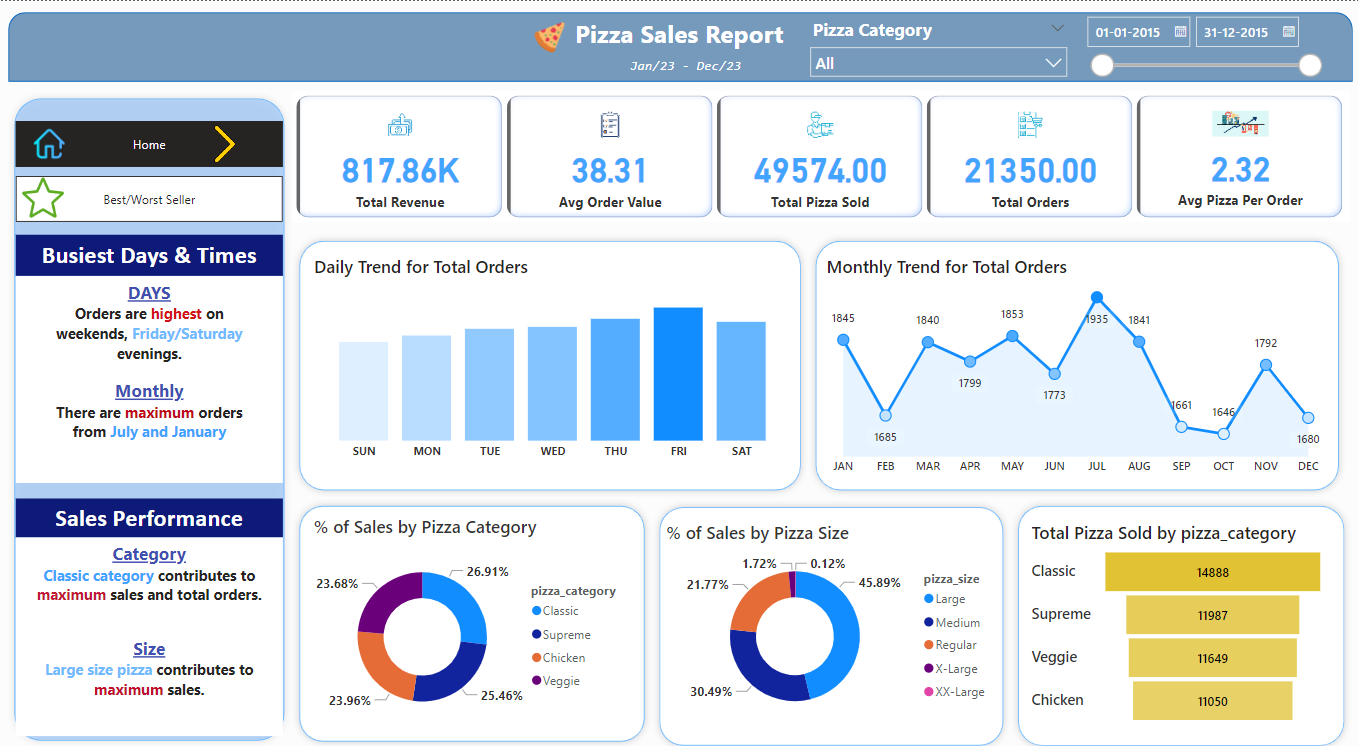

The dashboard page shown, as its layout file describes it:
{"tool":"powerbi","page":{"name":"Home","canvas":[1500,820],"ordinal":0},"visuals":[{"type":"shape","box":[16.4,98.5,310.4,716.4],"z":0},{"type":"cardVisual","fields":{"Data":["pizza_sales.Total Revenue","pizza_sales.Average Order Value","pizza_sales.Total Pizza Sold","pizza_sales.Total Orders","pizza_sales.Average Pizza Per Order"]},"box":[326.9,98.5,1153.7,143.3],"z":1000},{"type":"shape","box":[17.1,12.9,1465.7,75.7],"z":2000},{"type":"textbox","box":[620,12.9,258.6,48.6],"z":3000},{"type":"textbox","box":[680.8,55.8,149.8,32.7],"z":4000},{"type":"image","box":[577.1,17.1,60,44.3],"z":5000},{"type":"shape","box":[326.9,253.7,562.7,288.1],"z":6000},{"type":"columnChart","title":"Daily Trend for Total Orders","fields":{"Y":["pizza_sales.Total Orders"],"Category":["pizza_sales.Order Day"]},"box":[346.3,276.1,531.3,232.8],"z":7000},{"type":"shape","box":[889.6,253.7,586.6,288.1],"z":8000},{"type":"areaChart","title":"Monthly Trend for Total Orders","fields":{"Category":["pizza_sales.Order Month"],"Y":["pizza_sales.Total Orders"]},"box":[904.5,276.1,553.7,249.3],"z":9000},{"type":"shape","box":[326.9,541.8,392.5,273.1],"z":10000},{"type":"shape","box":[719.4,543.3,391,276.1],"z":11000},{"type":"shape","box":[1110.4,541.8,371.6,277.6],"z":12000},{"type":"donutChart","title":"% of Sales by Pizza Category","fields":{"Category":["pizza_sales.pizza_category"],"Y":["pizza_sales.Total Revenue"]},"box":[346.3,559.7,355.2,241.8],"z":13000},{"type":"donutChart","title":"% of Sales by Pizza Size","fields":{"Category":["pizza_sales.pizza_size"],"Y":["pizza_sales.Total Revenue"]},"box":[729.9,567.2,370.1,226.9],"z":14000},{"type":"funnel","fields":{"Category":["pizza_sales.pizza_category"],"Y":["pizza_sales.Total Pizza Sold"]},"box":[1128.4,567.2,329.9,226.9],"z":15000},{"type":"textbox","box":[25.4,541.8,291,43.3],"z":16000},{"type":"textbox","box":[25.4,300,291,225.4],"z":17000},{"type":"textbox","box":[25.4,255.2,291,44.8],"z":18000},{"type":"textbox","box":[25.4,585.1,291,216.4],"z":19000},{"type":"slicer","fields":{"Values":["pizza_sales.pizza_category"]},"box":[882.1,13.4,300,76.1],"z":20000},{"type":"slicer","fields":{"Values":["pizza_sales.order_date"]},"box":[1182.1,7.5,276.1,85.1],"z":21000},{"type":"pageNavigator","box":[25.4,131.3,291,50.7],"z":22000},{"type":"pageNavigator","box":[25.4,191,291,50.7],"z":23000},{"type":"image","box":[211.9,131.3,82.1,50.7],"z":24000},{"type":"image","box":[40.3,131.3,43.3,49.3],"z":25000},{"type":"image","box":[26.9,186.6,56.7,55.2],"z":26000}]}

Visuals, with their boxes in screenshot pixels (x1, y1, x2, y2), scaled from the page's 1500x820 canvas onto the 1358x746 screenshot:
shape: 15,90,296,741
cardVisual - pizza_sales.Total Revenue x pizza_sales.Average Order Value: 296,90,1340,220
shape: 15,12,1342,81
textbox: 561,12,795,56
textbox: 616,51,752,81
image: 522,16,577,56
shape: 296,231,805,493
"Daily Trend for Total Orders" columnChart: 314,251,795,463
shape: 805,231,1336,493
"Monthly Trend for Total Orders" areaChart: 819,251,1320,478
shape: 296,493,651,741
shape: 651,494,1005,745
shape: 1005,493,1342,745
"% of Sales by Pizza Category" donutChart: 314,509,635,729
"% of Sales by Pizza Size" donutChart: 661,516,996,722
funnel - pizza_sales.pizza_category x pizza_sales.Total Pizza Sold: 1022,516,1320,722
textbox: 23,493,286,532
textbox: 23,273,286,478
textbox: 23,232,286,273
textbox: 23,532,286,729
slicer - pizza_sales.pizza_category: 799,12,1070,81
slicer - pizza_sales.order_date: 1070,7,1320,84
pageNavigator: 23,119,286,166
pageNavigator: 23,174,286,220
image: 192,119,266,166
image: 36,119,76,164
image: 24,170,76,220
